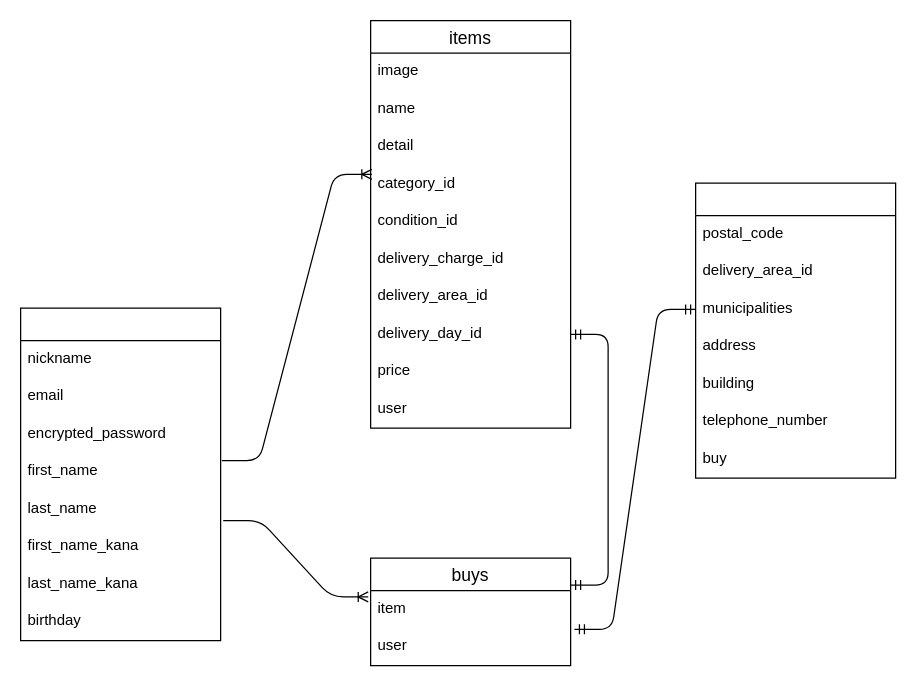
The diagram is 916 pixels wide and 686 high, and some of its shapes have lost their labels. Here are the shapes that lost their labels. From the top down, the box of each, then its label:
(694, 182, 896, 478): deliverys
(19, 307, 221, 641): users
